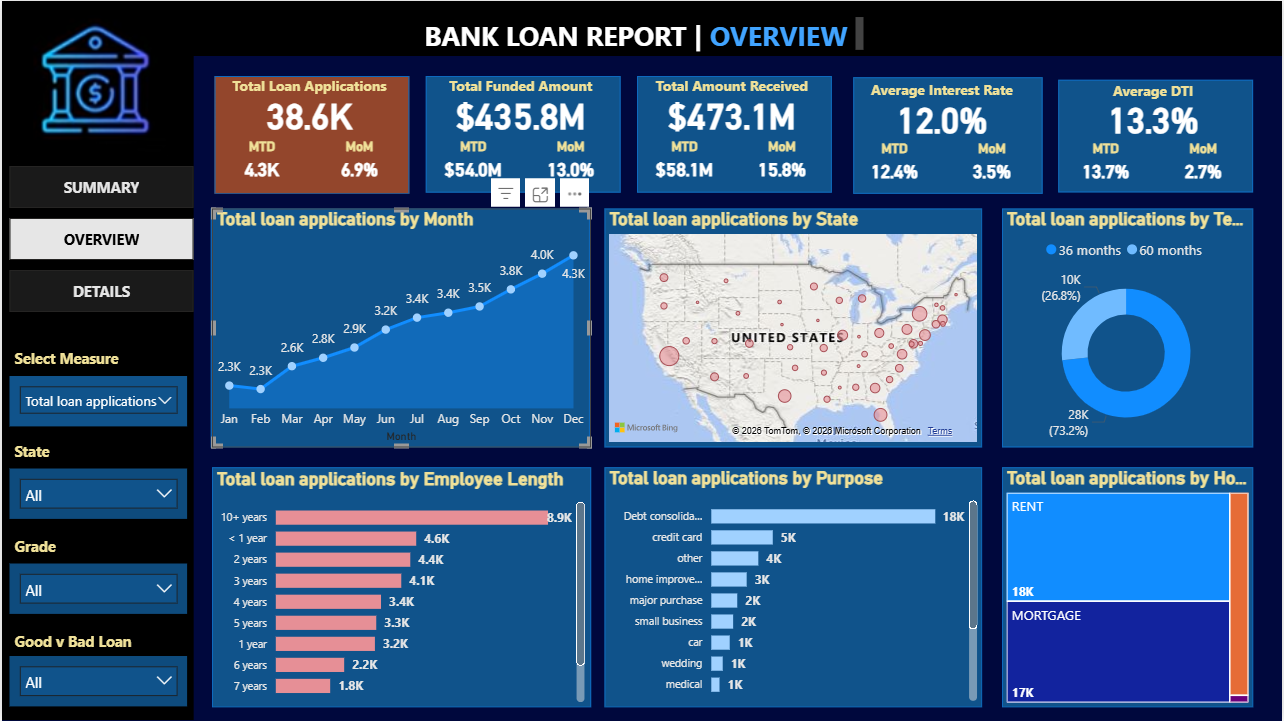

Layout of this report page (visuals, bound fields, positions):
{"tool":"powerbi","page":{"name":"OVERVIEW","canvas":[1280,720],"ordinal":1},"visuals":[{"type":"shape","box":[0,54.2,191.7,665.3],"z":0},{"type":"shape","box":[212.2,74.5,194.9,118],"z":0,"group":"g1"},{"type":"shape","box":[423.2,75,194.9,116.6],"z":0,"group":"g2"},{"type":"shape","box":[634.2,75,194.9,116.6],"z":0,"group":"g3"},{"type":"shape","box":[851.1,76.2,189.4,116.6],"z":0,"group":"g4"},{"type":"shape","box":[1056.2,79.8,194.9,112.7],"z":0,"group":"g5"},{"type":"shape","box":[0,0,1280.3,55],"z":1000},{"type":"card","fields":{"Values":["Bank_Loan_Data.Total_loan_applications"]},"box":[209.9,86.7,194.9,54.1],"z":1000,"group":"g1"},{"type":"card","fields":{"Values":["Bank_Loan_Data.Total Funded Amount"]},"box":[420.9,87,194.9,53.5],"z":1000,"group":"g2"},{"type":"card","fields":{"Values":["Bank_Loan_Data.Total Amount Raised"]},"box":[631.9,87,194.9,53.5],"z":1000,"group":"g3"},{"type":"card","fields":{"Values":["Bank_Loan_Data.Average Interest Rate"]},"box":[842.9,90.4,194.9,52.9],"z":1000,"group":"g4"},{"type":"card","fields":{"Values":["Bank_Loan_Data.Average DTI"]},"box":[1053.9,91.4,194.9,51.7],"z":1000,"group":"g5"},{"type":"textbox","box":[417.2,11,448.7,43.9],"z":2000},{"type":"textbox","box":[209.9,70,194.9,31.9],"z":2000,"group":"g1"},{"type":"textbox","box":[420.9,70.5,194.9,31.6],"z":2000,"group":"g2"},{"type":"textbox","box":[631.9,70.5,194.9,31.6],"z":2000,"group":"g3"},{"type":"textbox","box":[842.9,74.1,194.9,31.2],"z":2000,"group":"g4"},{"type":"textbox","box":[1053.9,75.5,194.9,30.5],"z":2000,"group":"g5"},{"type":"card","title":"MTD","fields":{"Values":["Bank_Loan_Data.MTD Funded Amount"]},"box":[436,137.7,70,49.4],"z":3000,"group":"g2"},{"type":"card","title":"MTD","fields":{"Values":["Bank_Loan_Data.MTD Amount Raised"]},"box":[647,137.7,70,49.4],"z":3000,"group":"g3"},{"type":"card","title":"MTD","fields":{"Values":["Bank_Loan_Data.MTD Loan Applications"]},"box":[225,138,70,50],"z":3000,"group":"g1"},{"type":"card","title":"MTD","fields":{"Values":["Bank_Loan_Data.MTD Average DTI"]},"box":[1069,140.4,70,47.7],"z":3000,"group":"g5"},{"type":"card","title":"MTD","fields":{"Values":["Bank_Loan_Data.MTD Average Interest Rate"]},"box":[858,140.6,70,48.8],"z":3000,"group":"g4"},{"type":"shape","box":[208.3,206.9,379.2,238.9],"z":3000},{"type":"group","id":"g1","title":"Group 1","box":[209.9,70,197.6,122.1],"z":4000},{"type":"card","title":"MoM","fields":{"Values":["Bank_Loan_Data.MoM Funded Amount"]},"box":[533.4,137.7,70,49.4],"z":4000,"group":"g2"},{"type":"card","title":"MoM","fields":{"Values":["Bank_Loan_Data.MoM Amount Received"]},"box":[744.4,137.7,70,49.4],"z":4000,"group":"g3"},{"type":"card","title":"MoM","fields":{"Values":["Bank_Loan_Data.MoM Loan Applications"]},"box":[322.4,138,70,50],"z":4000,"group":"g1"},{"type":"card","title":"MoM","fields":{"Values":["Bank_Loan_Data.Mom Average DTI"]},"box":[1166.4,140.4,70,47.7],"z":4000,"group":"g5"},{"type":"card","title":"MoM","fields":{"Values":["Bank_Loan_Data.MoM Average Interest Rate"]},"box":[955.4,140.6,70,48.8],"z":4000,"group":"g4"},{"type":"group","id":"g2","title":"Group 1","box":[420.9,70.5,197.6,120.8],"z":5000},{"type":"group","id":"g3","title":"Group 1","box":[631.9,70.5,197.6,120.8],"z":6000},{"type":"group","id":"g4","title":"Group 1","box":[842.9,74.1,197.6,119.4],"z":7000},{"type":"group","id":"g5","title":"Group 1","box":[1053.9,75.5,197.6,116.6],"z":8000},{"type":"slicer","fields":{"Values":["Bank_Loan_Data.address_state"]},"box":[6.9,468.1,177.8,50],"z":9000},{"type":"slicer","fields":{"Values":["Bank_Loan_Data.grade"]},"box":[6.9,562.5,177.8,50],"z":10000},{"type":"slicer","fields":{"Values":["Bank_Loan_Data.Good v Bad Loan Status","Bank_Loan_Data.purpose"]},"box":[6.9,655.6,177.8,50],"z":11000},{"type":"textbox","box":[6.9,434.7,156.9,31.9],"z":12000},{"type":"textbox","box":[6.9,530.6,156.9,30.6],"z":13000},{"type":"textbox","box":[6.9,625,156.9,30.6],"z":14000},{"type":"areaChart","fields":{"Y2":["Bank_Loan_Data.Total loan applications"],"Category":["Date_Table.Month"]},"box":[209.7,206.9,379.2,238.9],"z":15000},{"type":"slicer","fields":{"Values":["Select Parameter.Select Parameter"]},"box":[6.9,375,177.8,50],"z":16000},{"type":"textbox","box":[6.9,343.1,156.9,31.9],"z":17000},{"type":"shape","box":[602.8,206.9,377.8,238.9],"z":18000},{"type":"map","fields":{"Size":["Bank_Loan_Data.Total loan applications"],"Category":["Bank_Loan_Data.address_state"]},"box":[602.8,206.9,377.8,238.9],"z":19000},{"type":"shape","box":[209.7,466.7,379.2,240.3],"z":20000},{"type":"shape","box":[1000,206.9,251.4,238.9],"z":21000},{"type":"shape","box":[602.8,466.7,377.8,240.3],"z":22000},{"type":"shape","box":[1000,466.7,251.4,240.3],"z":23000},{"type":"donutChart","fields":{"Y":["Bank_Loan_Data.Total loan applications"],"Category":["Bank_Loan_Data.term"]},"box":[1000,206.9,248.6,238.9],"z":24000},{"type":"clusteredBarChart","fields":{"Y":["Bank_Loan_Data.Total loan applications"],"Category":["Bank_Loan_Data.emp_length"]},"box":[209.7,468.1,377.8,238.9],"z":25000},{"type":"clusteredBarChart","fields":{"Y":["Bank_Loan_Data.Total loan applications"],"Category":["Bank_Loan_Data.purpose"]},"box":[602.8,466.7,377.8,238.9],"z":26000},{"type":"treemap","fields":{"Values":["Bank_Loan_Data.Total loan applications"],"Group":["Bank_Loan_Data.home_ownership"]},"box":[1000,466.7,251.4,240.3],"z":27000},{"type":"pageNavigator","box":[6.9,165.3,184.7,147.2],"z":27002},{"type":"image","box":[0,0,184.7,162.5],"z":27003}]}

Visuals, with their boxes in screenshot pixels (x1, y1, x2, y2), scaled from the page's 1280x720 canvas onto the 1284x721 screenshot:
shape: detection(0, 54, 192, 720)
shape: detection(213, 75, 408, 193)
shape: detection(425, 75, 620, 192)
shape: detection(636, 75, 832, 192)
shape: detection(854, 76, 1044, 193)
shape: detection(1060, 80, 1255, 193)
shape: detection(0, 0, 1283, 55)
card - Bank_Loan_Data.Total_loan_applications: detection(211, 87, 406, 141)
card - Bank_Loan_Data.Total Funded Amount: detection(422, 87, 618, 141)
card - Bank_Loan_Data.Total Amount Raised: detection(634, 87, 829, 141)
card - Bank_Loan_Data.Average Interest Rate: detection(846, 91, 1041, 143)
card - Bank_Loan_Data.Average DTI: detection(1057, 92, 1253, 143)
textbox: detection(419, 11, 869, 55)
textbox: detection(211, 70, 406, 102)
textbox: detection(422, 71, 618, 102)
textbox: detection(634, 71, 829, 102)
textbox: detection(846, 74, 1041, 105)
textbox: detection(1057, 76, 1253, 106)
"MTD" card: detection(437, 138, 508, 187)
"MTD" card: detection(649, 138, 719, 187)
"MTD" card: detection(226, 138, 296, 188)
"MTD" card: detection(1072, 141, 1143, 188)
"MTD" card: detection(861, 141, 931, 190)
shape: detection(209, 207, 589, 446)
"Group 1" group: detection(211, 70, 409, 192)
"MoM" card: detection(535, 138, 605, 187)
"MoM" card: detection(747, 138, 817, 187)
"MoM" card: detection(323, 138, 394, 188)
"MoM" card: detection(1170, 141, 1240, 188)
"MoM" card: detection(958, 141, 1029, 190)
"Group 1" group: detection(422, 71, 620, 192)
"Group 1" group: detection(634, 71, 832, 192)
"Group 1" group: detection(846, 74, 1044, 194)
"Group 1" group: detection(1057, 76, 1255, 192)
slicer - Bank_Loan_Data.address_state: detection(7, 469, 185, 519)
slicer - Bank_Loan_Data.grade: detection(7, 563, 185, 613)
slicer - Bank_Loan_Data.Good v Bad Loan Status x Bank_Loan_Data.purpose: detection(7, 657, 185, 707)
textbox: detection(7, 435, 164, 467)
textbox: detection(7, 531, 164, 562)
textbox: detection(7, 626, 164, 657)
areaChart - Bank_Loan_Data.Total loan applications x Date_Table.Month: detection(210, 207, 591, 446)
slicer - Select Parameter.Select Parameter: detection(7, 376, 185, 426)
textbox: detection(7, 344, 164, 376)
shape: detection(605, 207, 984, 446)
map - Bank_Loan_Data.Total loan applications x Bank_Loan_Data.address_state: detection(605, 207, 984, 446)
shape: detection(210, 467, 591, 708)
shape: detection(1003, 207, 1255, 446)
shape: detection(605, 467, 984, 708)
shape: detection(1003, 467, 1255, 708)
donutChart - Bank_Loan_Data.Total loan applications x Bank_Loan_Data.term: detection(1003, 207, 1253, 446)
clusteredBarChart - Bank_Loan_Data.Total loan applications x Bank_Loan_Data.emp_length: detection(210, 469, 589, 708)
clusteredBarChart - Bank_Loan_Data.Total loan applications x Bank_Loan_Data.purpose: detection(605, 467, 984, 707)
treemap - Bank_Loan_Data.Total loan applications x Bank_Loan_Data.home_ownership: detection(1003, 467, 1255, 708)
pageNavigator: detection(7, 166, 192, 313)
image: detection(0, 0, 185, 163)
